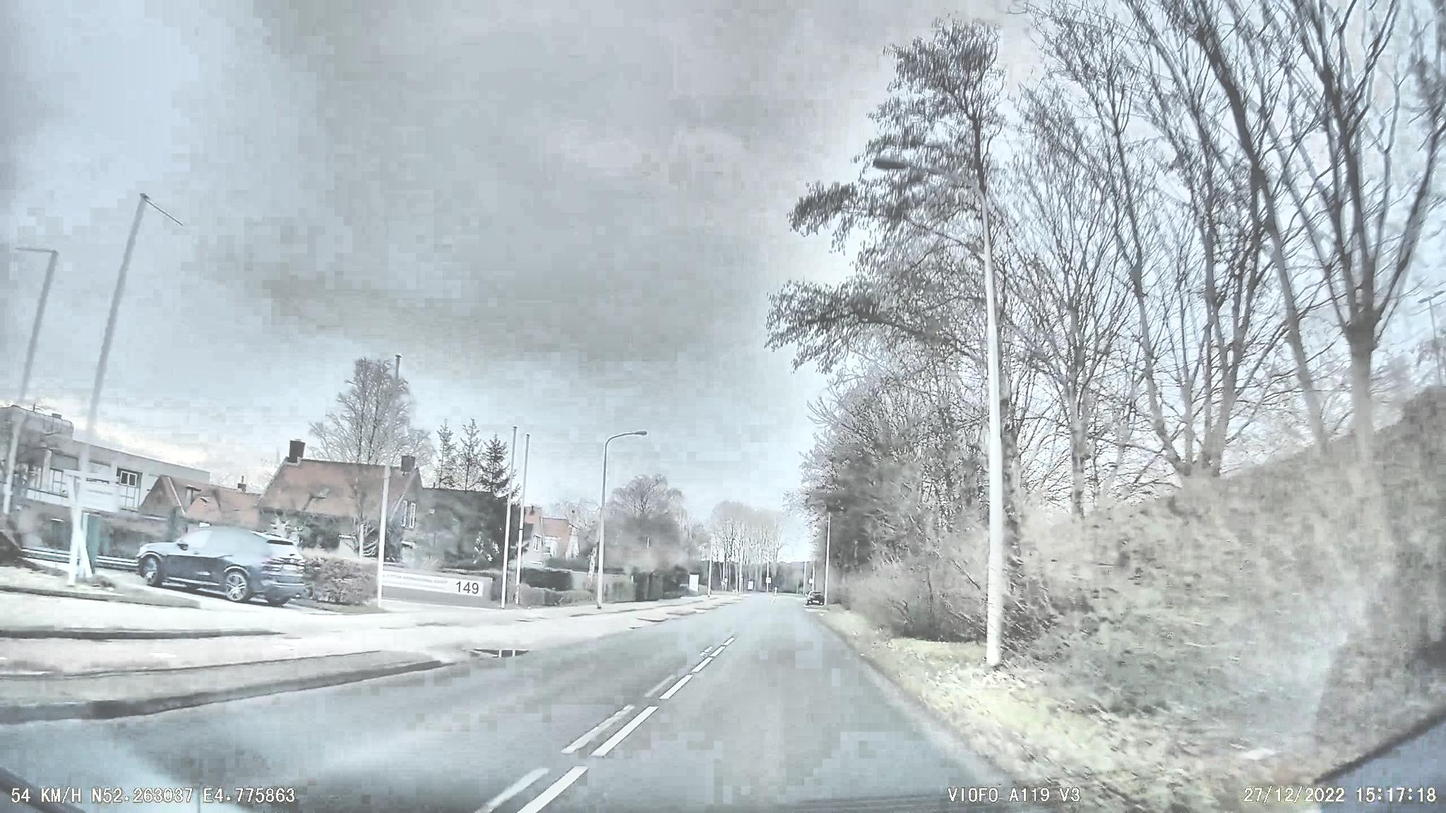Roads: (0, 597, 1086, 813)
